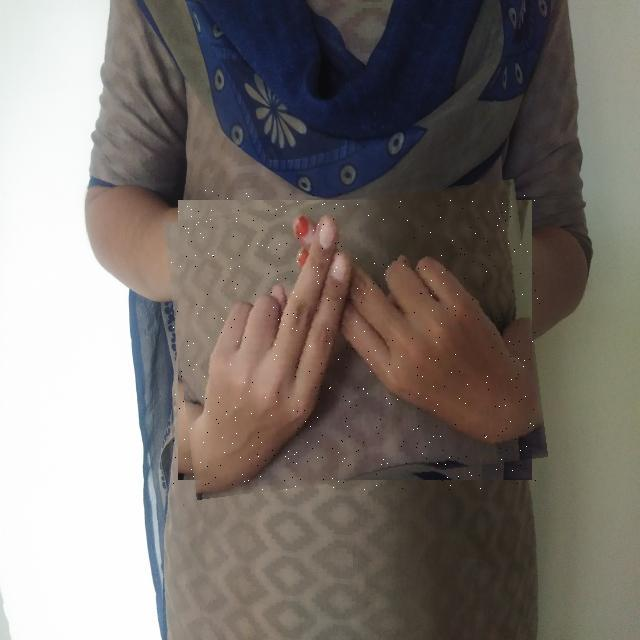F: (171, 190, 540, 490)
